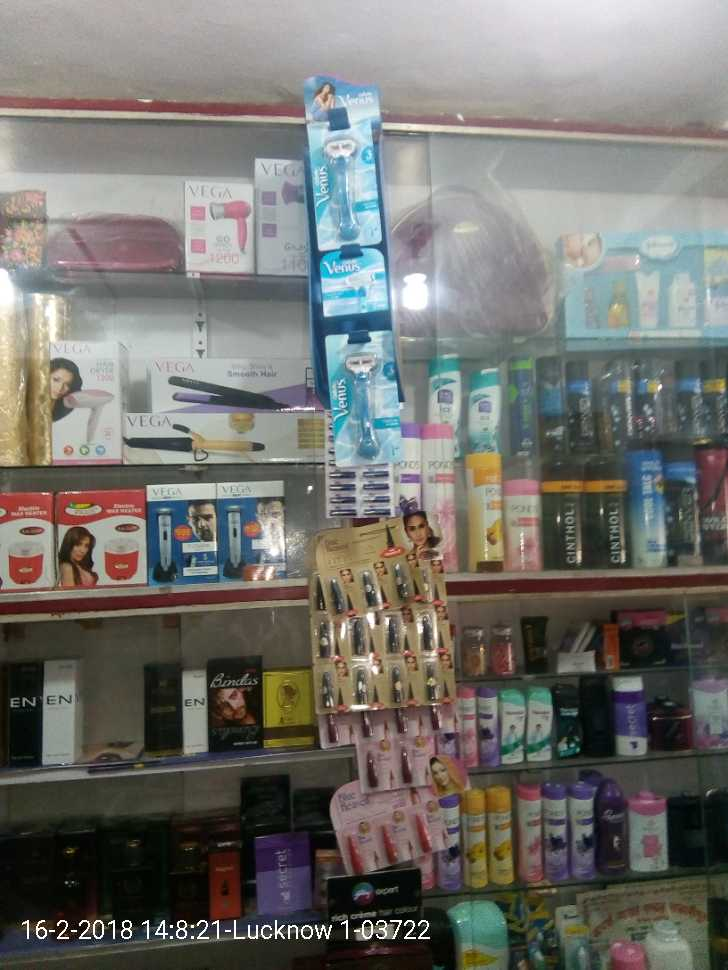venus: (324, 342, 399, 461), (313, 126, 379, 242), (314, 249, 391, 323)
